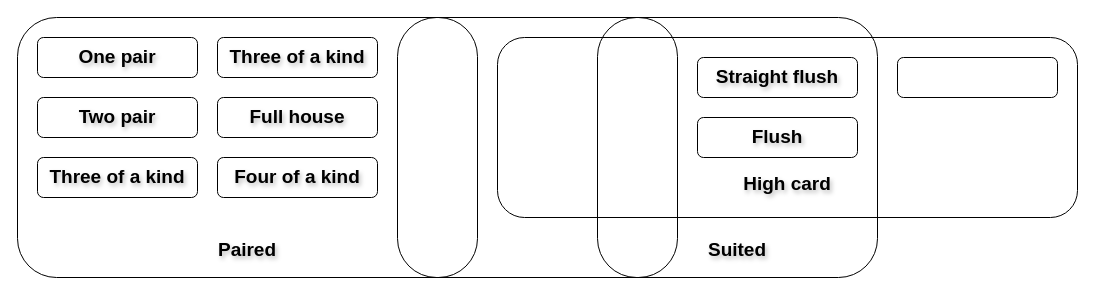
This 1095x295 diagram has some shape labels left out. The shapes that lost their labels are listed below. From the top down, each one's centre as x and y in pixels, then its label:
the point at 977,77: Straight
the point at 537,147: Rainbow
